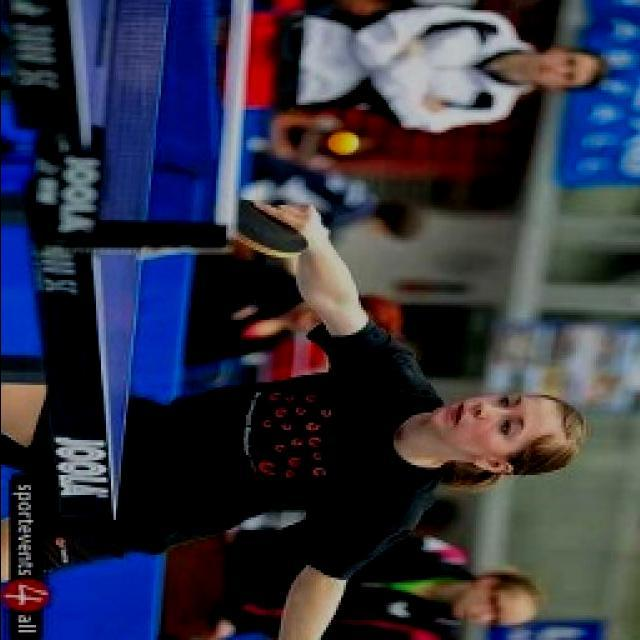oball: (318, 122, 380, 162)
